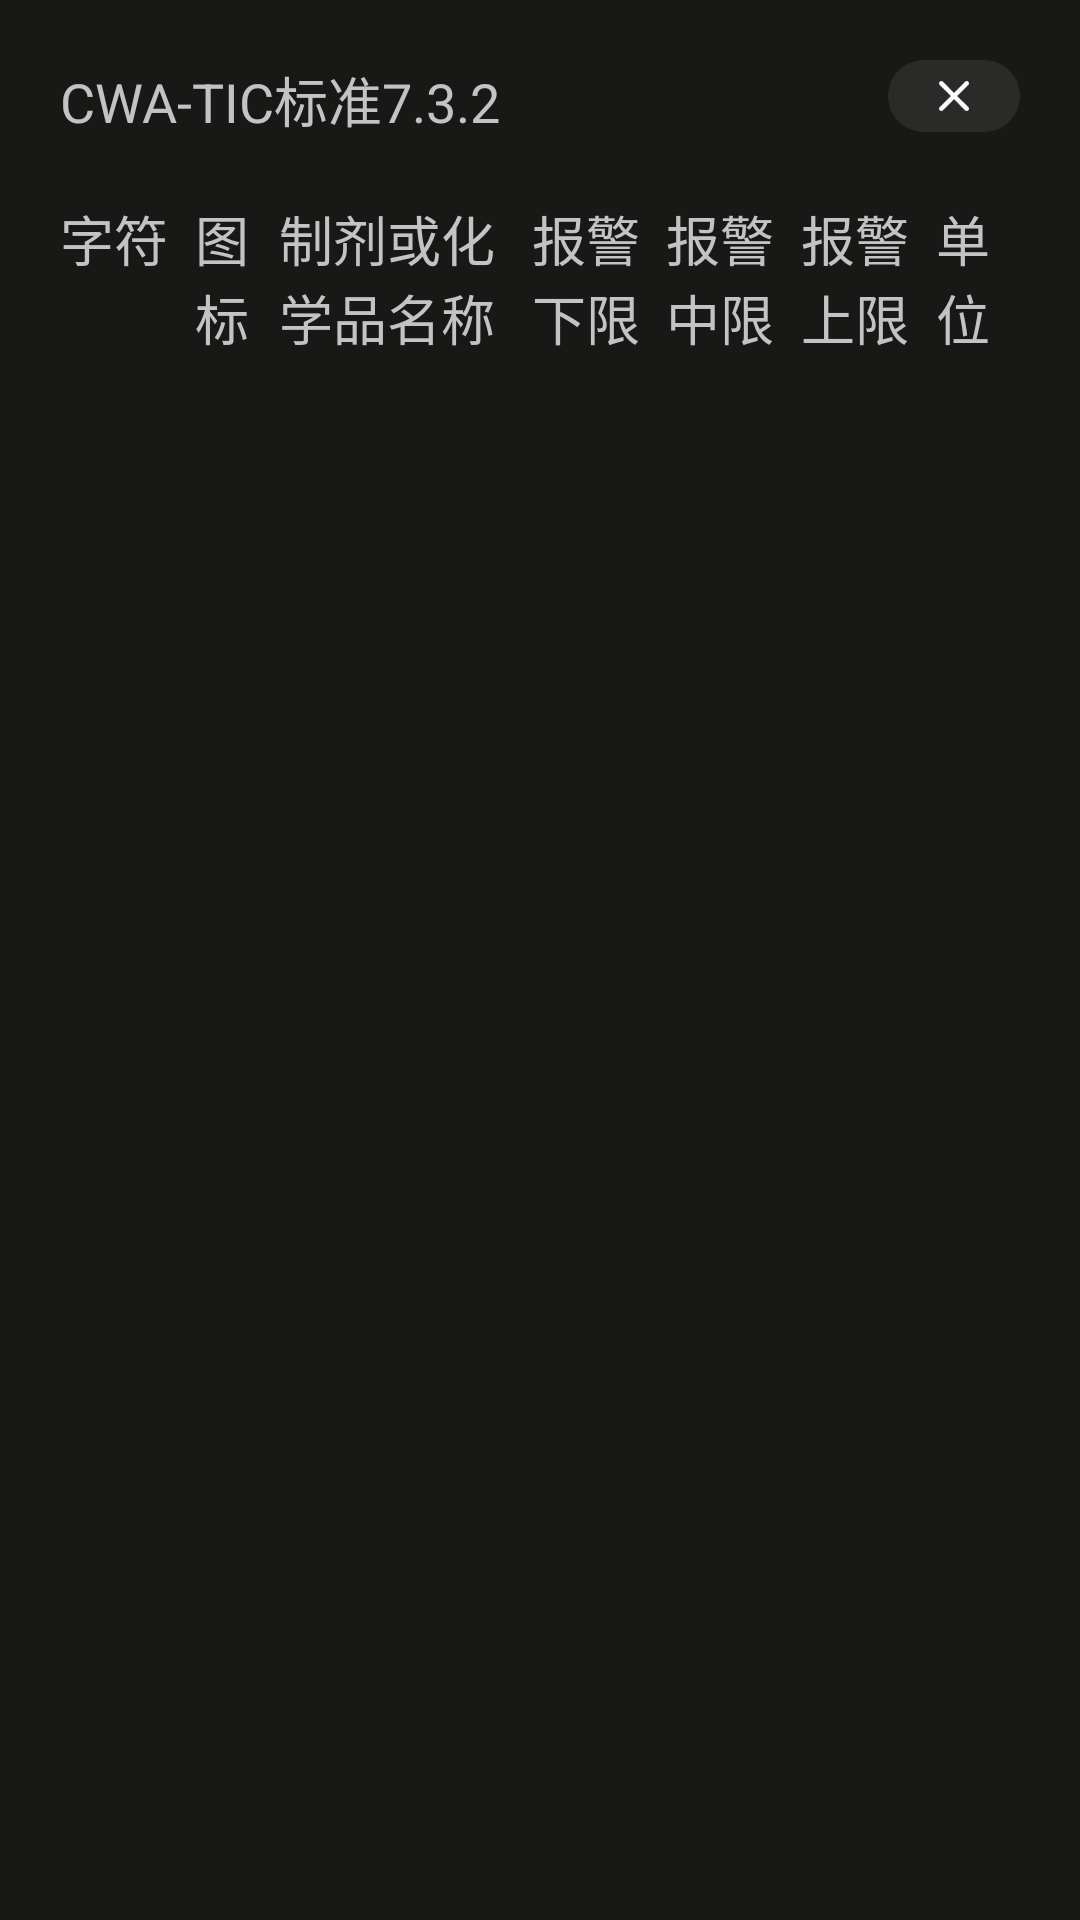

Named icons in this screenshot (1080x1920) and their centers, (x,y):
cancel: (954,96)
